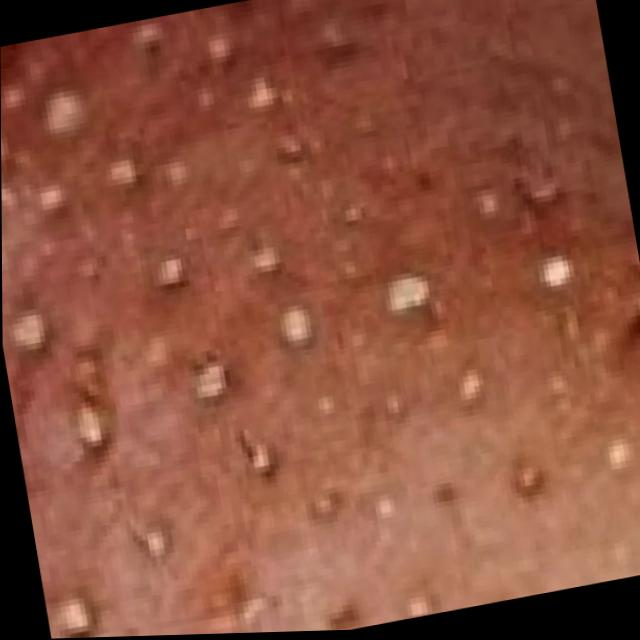whitehead: (0, 7, 640, 639)
